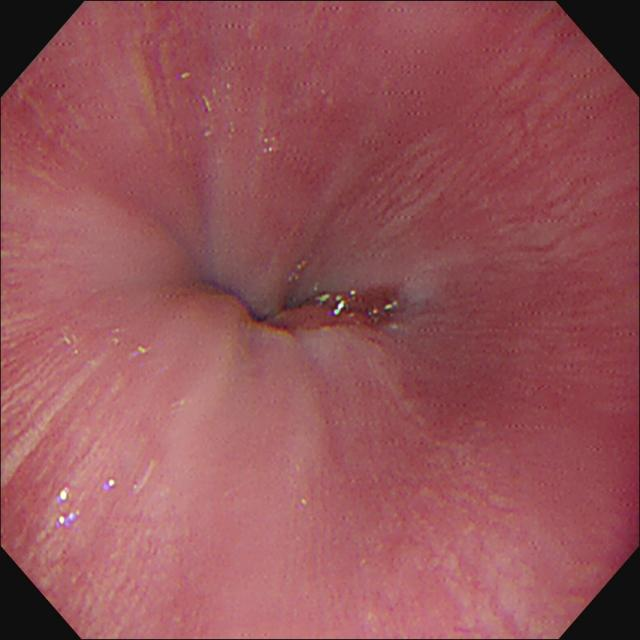I: (171, 217, 418, 404)
U: (57, 489, 82, 529), (317, 291, 350, 319), (102, 477, 117, 492)
